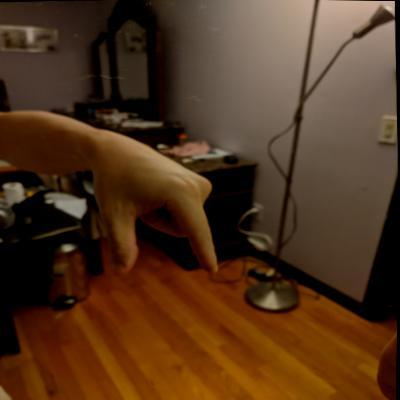hand: (87, 126, 226, 282)
